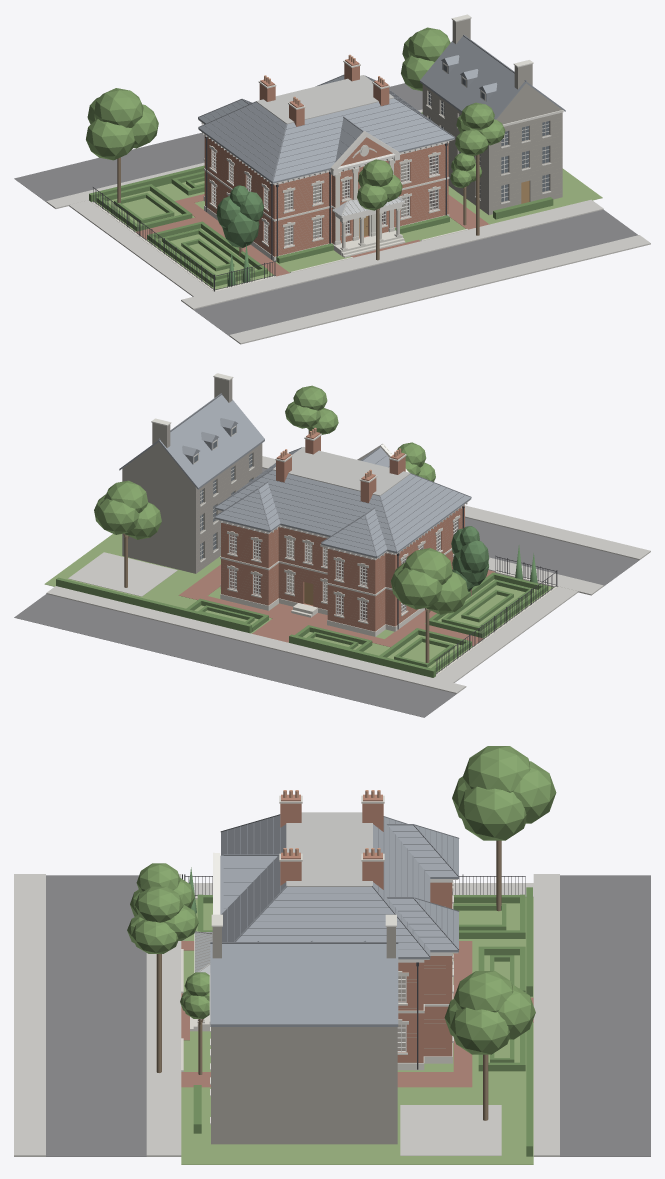
File: clay-halifax-georgian-colonial-clay-v003.glb
3 renders of one model, top to bottom at view 1: azimuth 30°, elevation 25°; view 2: azimuth 150°, elevation 25°; view 3: azimuth 270°, elevation 25°, orthographic. The views are drawn at different scales.
Parts seen in each view (by area): view 1: CLAY_ASPHALT, CLAY_ROOF, CLAY_CONCRETE, CLAY_WALL, CLAY_PLANTING, CLAY_NEIGHBOUR, CLAY_HEDGE, CLAY_LAWN, CLAY_STONE, CLAY_TRIM, CLAY_LEAD, CLAY_CONIFER (+8 smaller); view 2: CLAY_ASPHALT, CLAY_ROOF, CLAY_WALL, CLAY_CONCRETE, CLAY_NEIGHBOUR, CLAY_HEDGE, CLAY_PLANTING, CLAY_LAWN, CLAY_PAVING, CLAY_STONE, CLAY_COURSE, CLAY_LEAD (+7 smaller); view 3: CLAY_ASPHALT, CLAY_ROOF, CLAY_CONCRETE, CLAY_NEIGHBOUR, CLAY_PLANTING, CLAY_LAWN, CLAY_WALL, CLAY_HEDGE, CLAY_LEAD, CLAY_COURSE, CLAY_PAVING, CLAY_STONE (+4 smaller).
Part boxes in pixels (x1,y1,x2,y2): CLAY_ASPHALT: [14, 83, 638, 335]; CLAY_ROOF: [198, 36, 565, 183]; CLAY_CONCRETE: [46, 109, 650, 344]; CLAY_WALL: [204, 59, 448, 256]; CLAY_PLANTING: [86, 27, 505, 210]; CLAY_NEIGHBOUR: [422, 18, 562, 214]; CLAY_HEDGE: [89, 112, 553, 286]; CLAY_LAWN: [95, 168, 602, 289]; CLAY_STONE: [91, 60, 468, 291]; CLAY_TRIM: [199, 120, 454, 246]; CLAY_LEAD: [256, 75, 404, 215]; CLAY_CONIFER: [216, 185, 263, 285]; CLAY_ASPHALT: [14, 468, 639, 717]; CLAY_ROOF: [119, 395, 471, 558]; CLAY_WALL: [221, 432, 464, 631]; CLAY_CONCRETE: [46, 456, 650, 693]; CLAY_NEIGHBOUR: [122, 377, 262, 573]; CLAY_HEDGE: [56, 572, 547, 677]; CLAY_PLANTING: [94, 385, 468, 614]; CLAY_LAWN: [44, 534, 553, 672]; CLAY_PAVING: [179, 564, 494, 647]; CLAY_STONE: [220, 433, 557, 675]; CLAY_COURSE: [158, 393, 471, 556]; CLAY_LEAD: [273, 447, 410, 495]; CLAY_ASPHALT: [46, 875, 650, 1156]; CLAY_ROOF: [210, 815, 458, 1026]; CLAY_CONCRETE: [14, 874, 559, 1156]; CLAY_NEIGHBOUR: [211, 927, 397, 1144]; CLAY_PLANTING: [127, 746, 556, 1054]; CLAY_LAWN: [181, 897, 533, 1164]; CLAY_WALL: [280, 794, 452, 1062]; CLAY_HEDGE: [193, 887, 532, 1156]; CLAY_LEAD: [195, 812, 372, 972]; CLAY_COURSE: [210, 814, 459, 956]; CLAY_PAVING: [181, 941, 533, 1087]; CLAY_STONE: [181, 795, 453, 1071].
Bounding box in the file's own units: 51.4 × 16.5 × 47.82.
